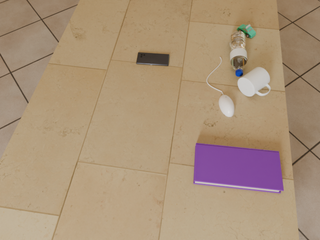book: (194, 143, 284, 193)
bottle: (229, 31, 247, 77)
cup: (238, 67, 270, 96)
mouse: (219, 95, 234, 117)
phone: (136, 52, 169, 66)
toy_car: (237, 24, 256, 38)
